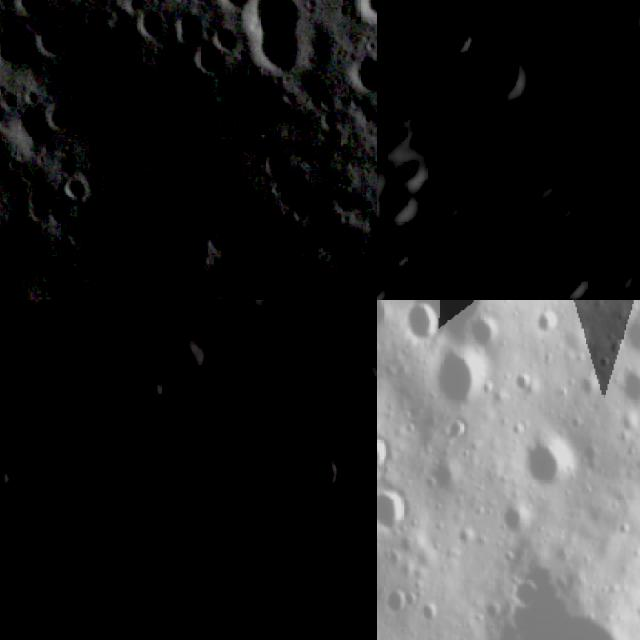crater: (463, 553, 640, 640), (446, 26, 543, 125), (418, 335, 496, 421), (314, 334, 377, 431), (240, 0, 317, 73), (73, 554, 146, 628), (288, 430, 357, 505), (520, 432, 589, 498), (146, 331, 206, 395), (428, 8, 488, 66), (94, 414, 151, 474), (179, 300, 280, 331), (377, 172, 427, 230), (210, 476, 266, 526), (0, 9, 46, 69), (399, 300, 445, 352), (594, 308, 640, 359), (377, 480, 420, 534), (541, 254, 590, 300), (377, 232, 418, 283), (56, 520, 98, 564), (56, 362, 97, 407), (492, 492, 532, 538), (345, 43, 377, 95), (56, 172, 95, 206), (616, 365, 640, 418), (604, 259, 639, 295), (325, 597, 359, 633), (377, 424, 397, 480), (0, 453, 25, 496), (209, 594, 241, 627), (168, 589, 200, 621), (134, 374, 165, 407), (200, 364, 228, 394), (347, 0, 377, 23), (239, 406, 263, 432), (333, 555, 357, 580), (241, 628, 272, 640), (134, 300, 167, 311), (84, 300, 113, 310)
